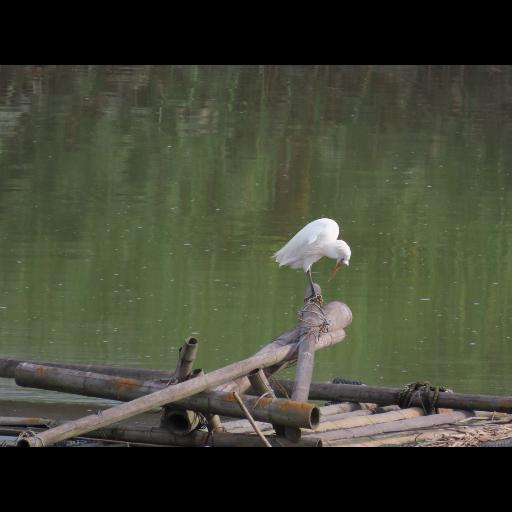chinese_egret: (270, 219, 352, 305)
